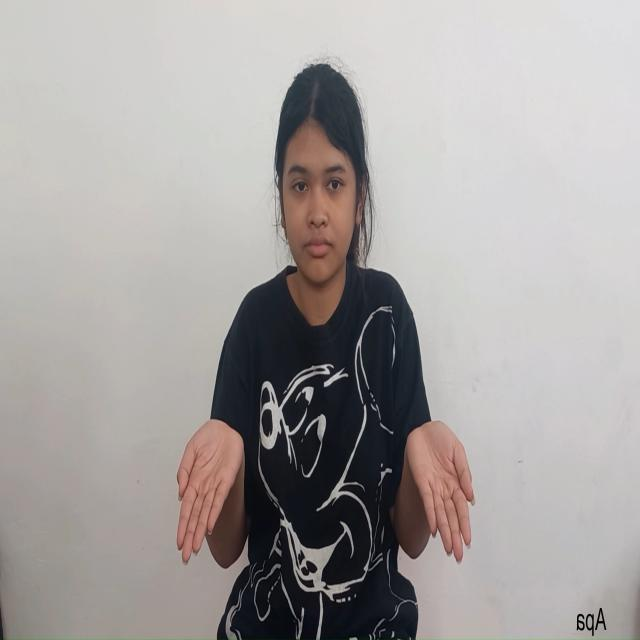Apa -BISINDO-: (168, 409, 481, 578)
